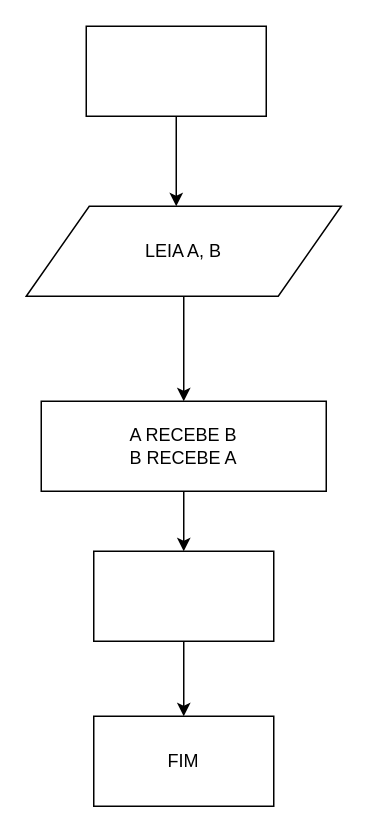
The diagram is 368 pixels wide and 833 high, and some of its shapes have lost their labels. Here are the shapes that lost their labels. From the top down, the centre of each, then its label:
At point 175,70: "INICIO".
At point 183,595: "PRINT A, B".
